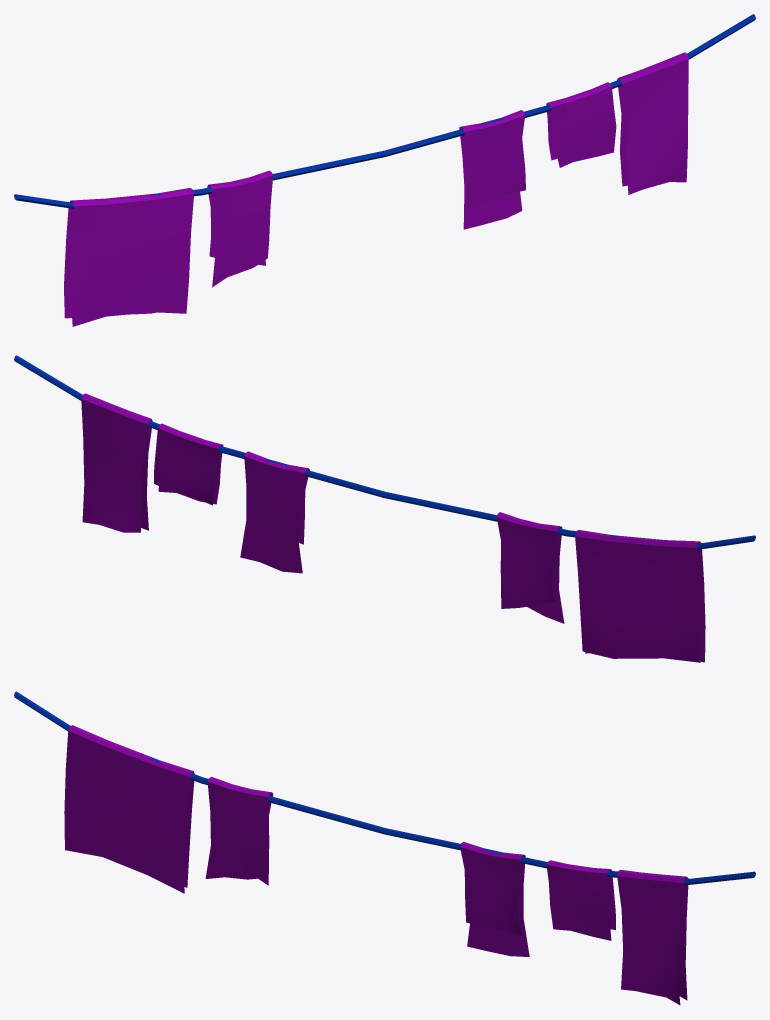
Rendered from SM_HangingClothes_01.fbx.
The picture shows the model from 3 angles, top to bottom: view 1: azimuth 30°, elevation 25°; view 2: azimuth 150°, elevation 25°; view 3: azimuth 330°, elevation 25°; orthographic projection.
Visible parts, largest first — view 1: polySurface16; view 2: polySurface16; view 3: polySurface16.
Boxes of the visible parts, x1=… form: polySurface16: x1=14, y1=14, x2=755, y2=326; polySurface16: x1=14, y1=355, x2=755, y2=662; polySurface16: x1=14, y1=691, x2=755, y2=1004.
Bounding box in the file's own units: 1191 × 246 × 28.19.
